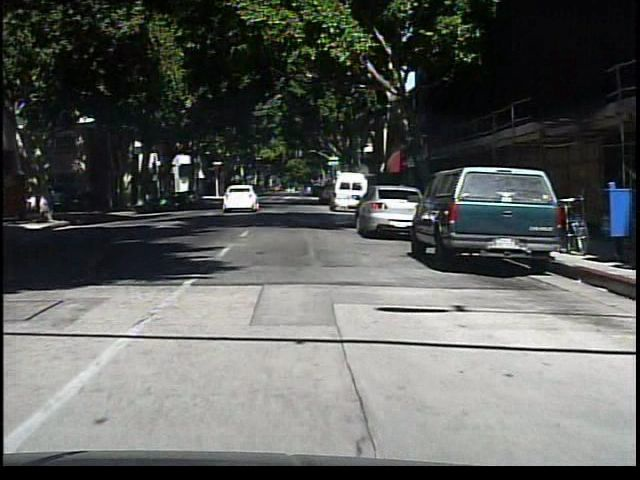person: (43, 179, 60, 223), (294, 177, 313, 206)
